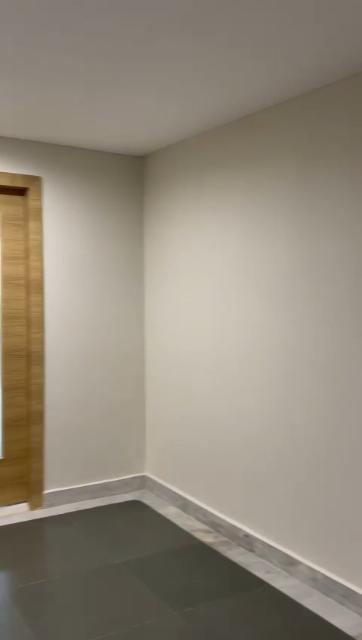floor: (0, 497, 362, 640)
wall: (49, 66, 361, 577)
